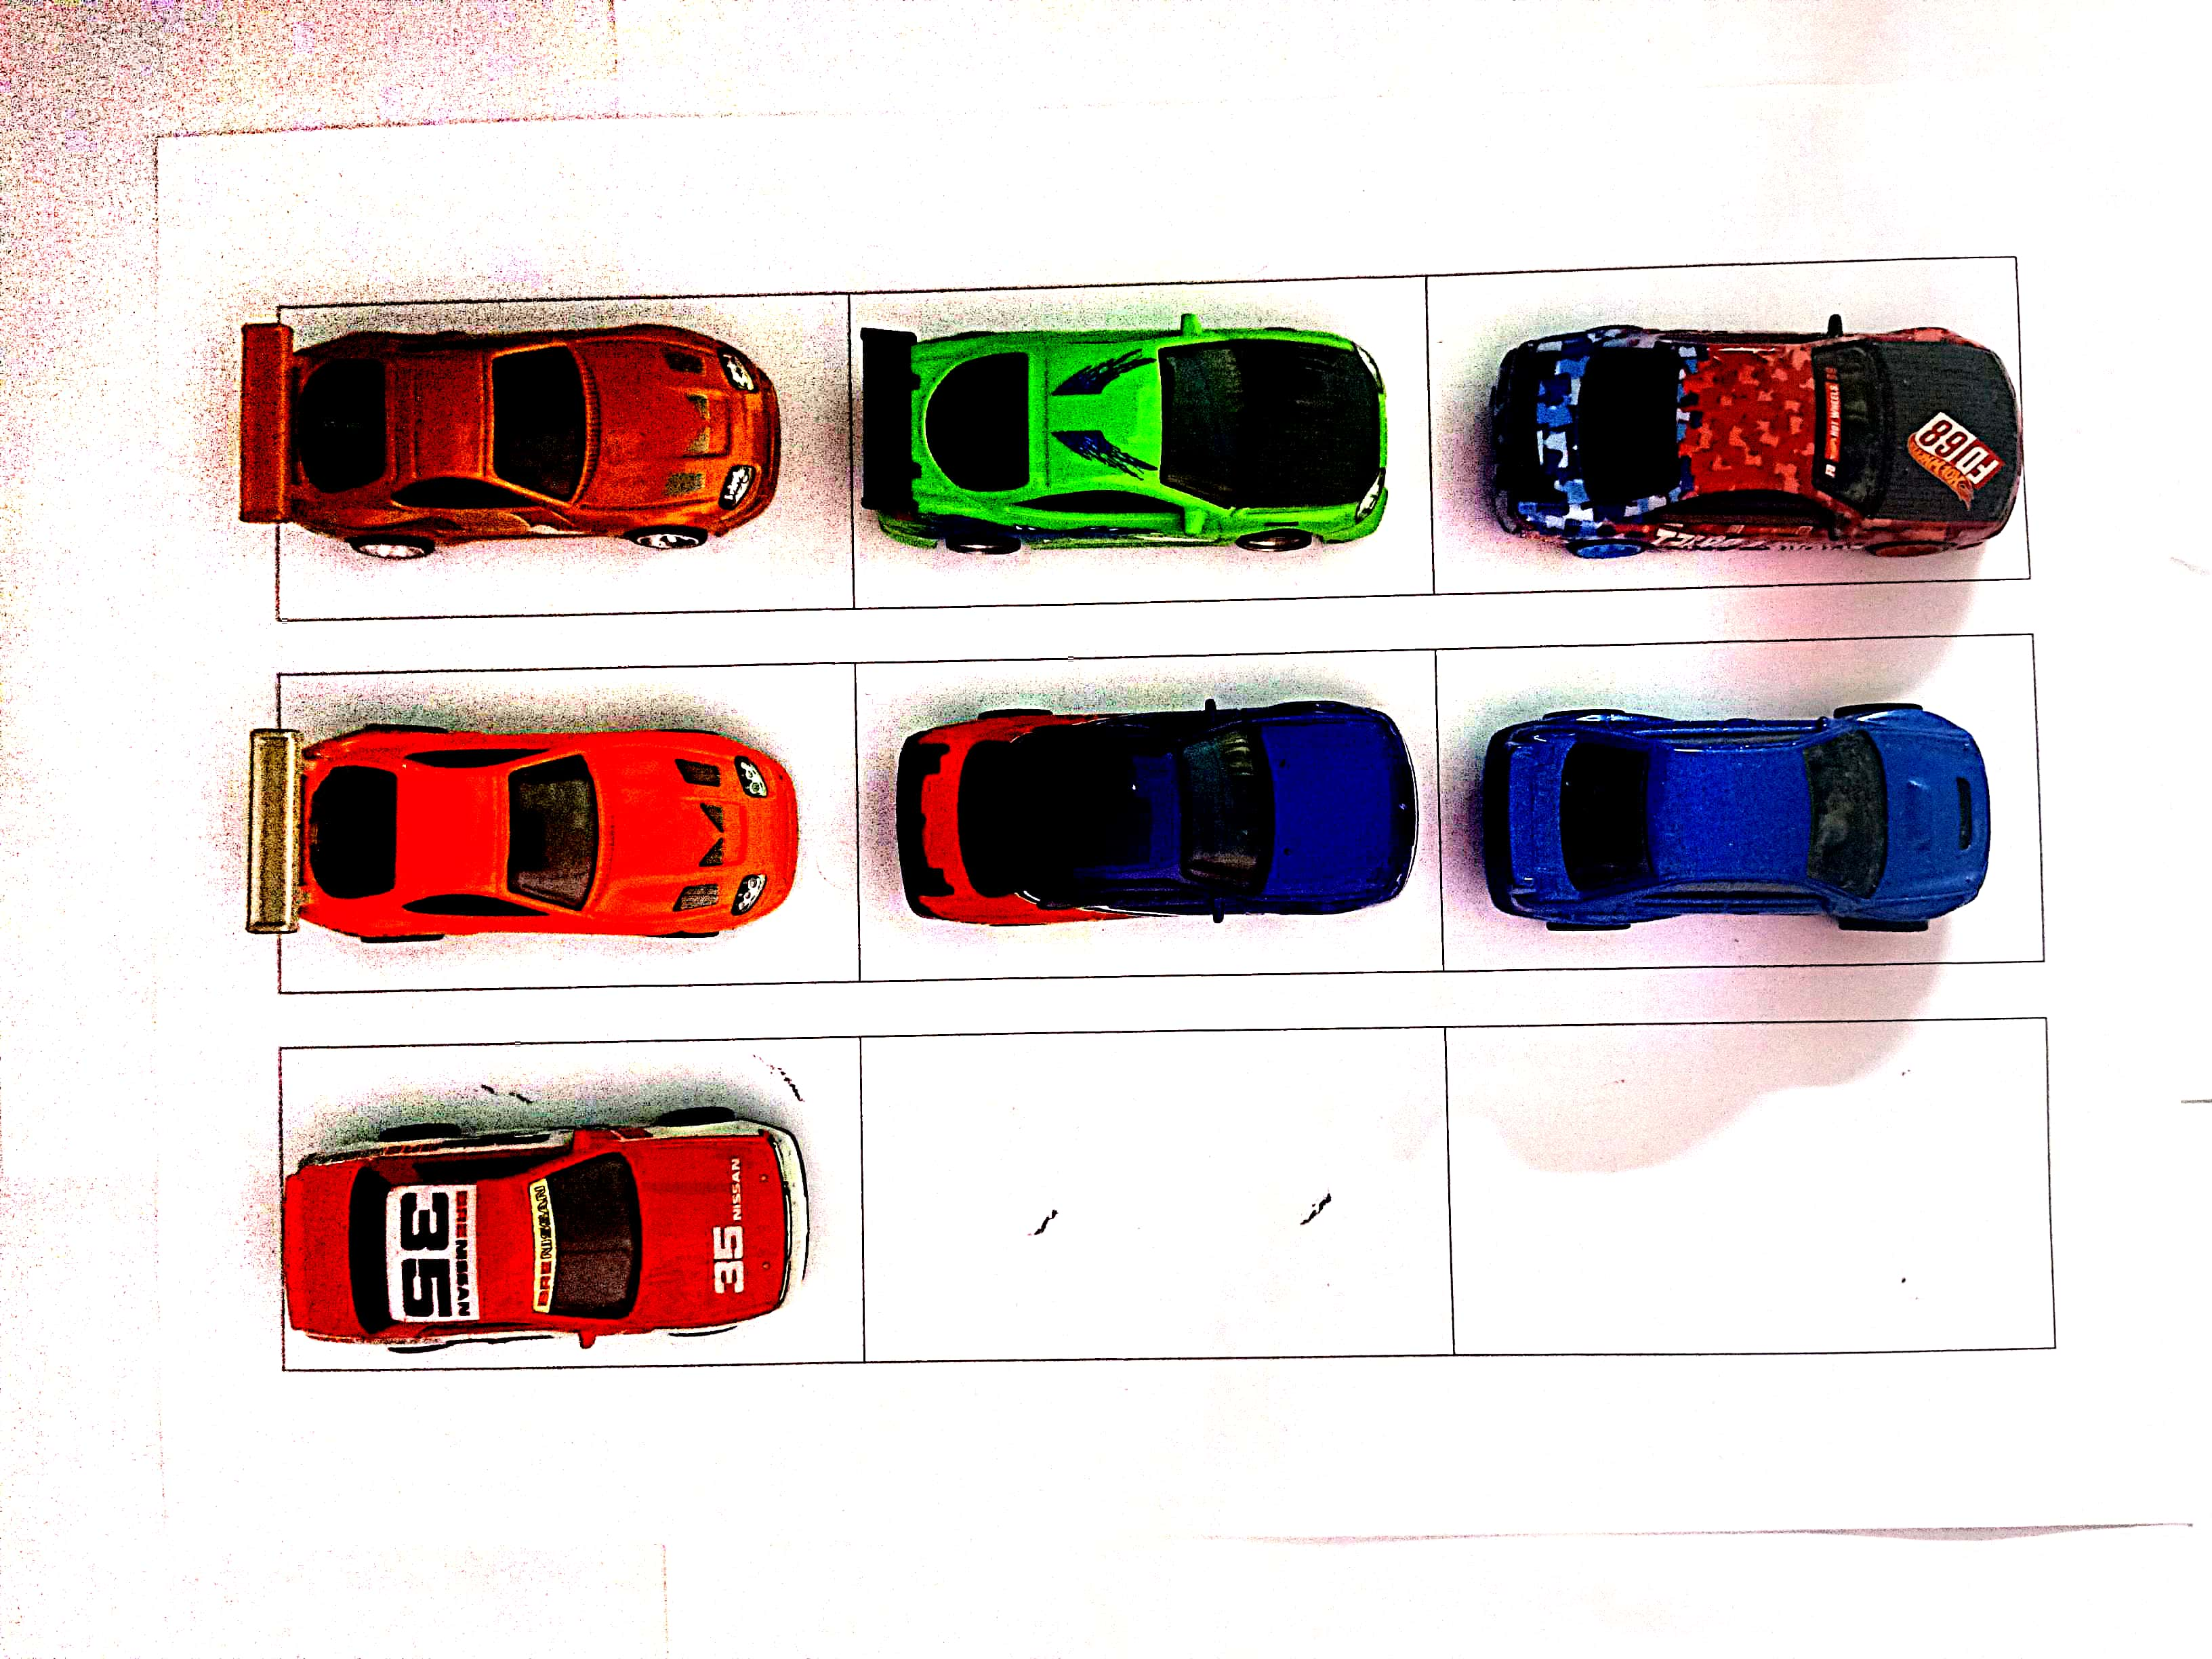Busy: (1433, 261, 2020, 601), (1442, 633, 2024, 972), (860, 648, 1433, 979), (286, 666, 857, 997), (286, 1035, 857, 1359), (860, 275, 1423, 603), (273, 289, 843, 603)
Free: (871, 1026, 1440, 1358), (1458, 1023, 2038, 1345)
